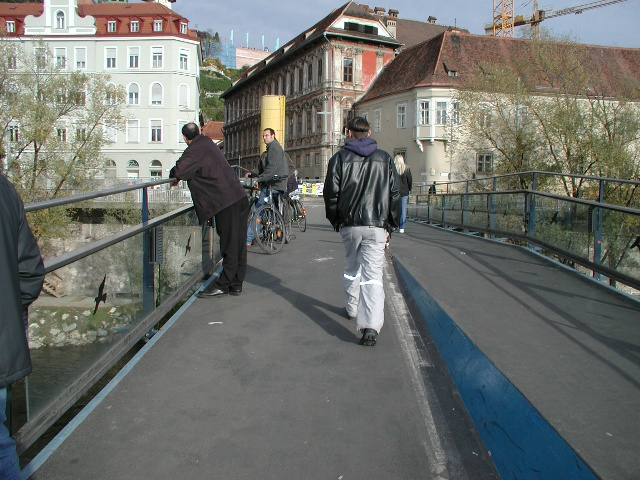person: (323, 117, 398, 344), (169, 119, 249, 295)
